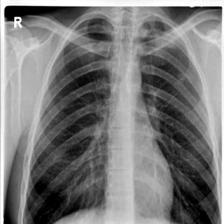tuberculosis: (19, 15, 222, 224)
